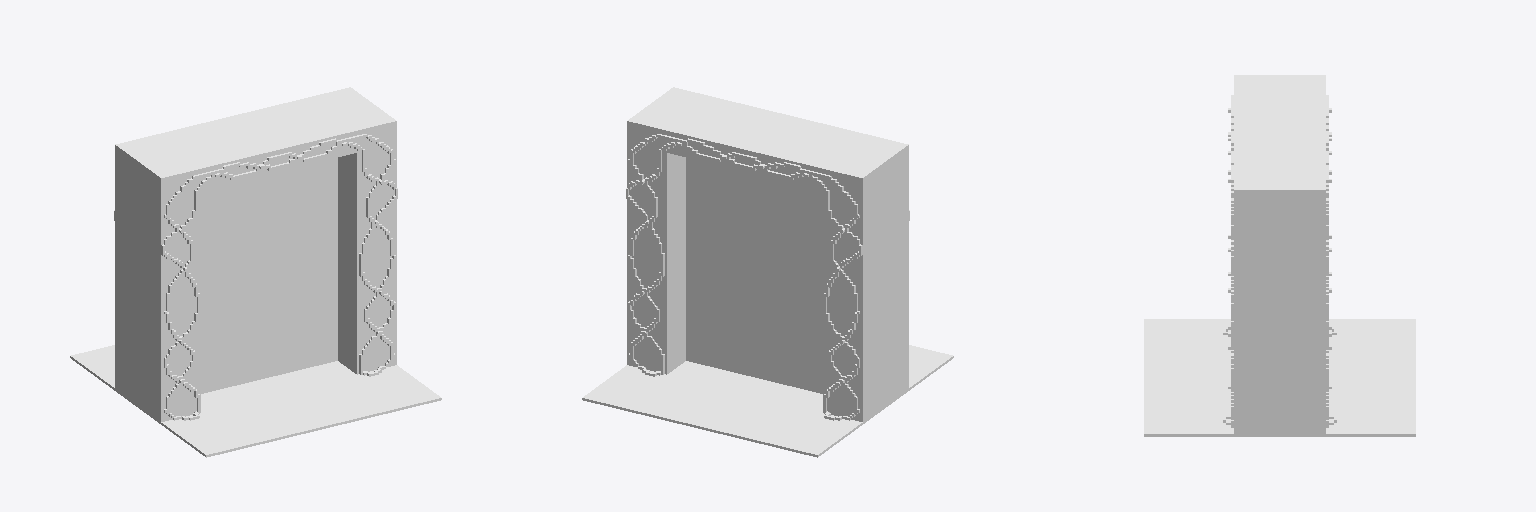
File: ShteinGate.obj
The picture shows the model from 3 angles: view 1: azimuth 30°, elevation 25°; view 2: azimuth 150°, elevation 25°; view 3: azimuth 270°, elevation 25°; orthographic projection.
Parts seen in each view (by area): view 1: object 1; view 2: object 1; view 3: object 1.
Boxes of the visible parts, box(x1,y1,x2,y2) form: object 1: box(70, 87, 441, 457); object 1: box(582, 87, 953, 457); object 1: box(1144, 75, 1415, 436).
Bounding box in the file's own units: 10 × 10 × 10.